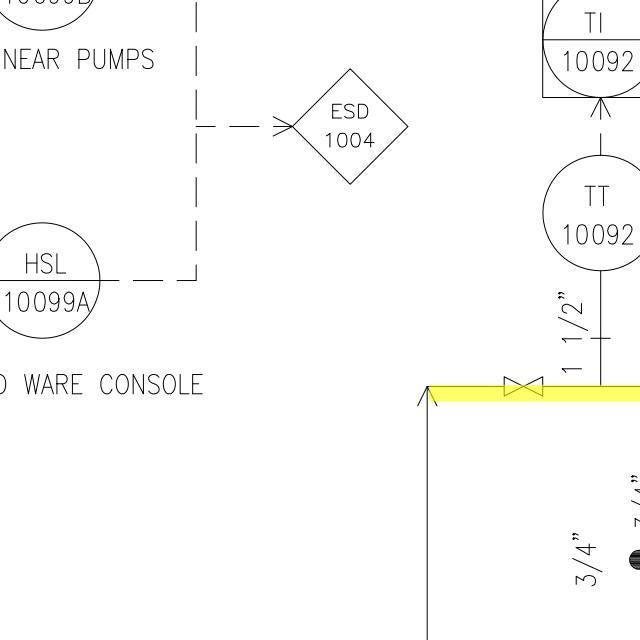GV: (497, 374, 549, 399)
